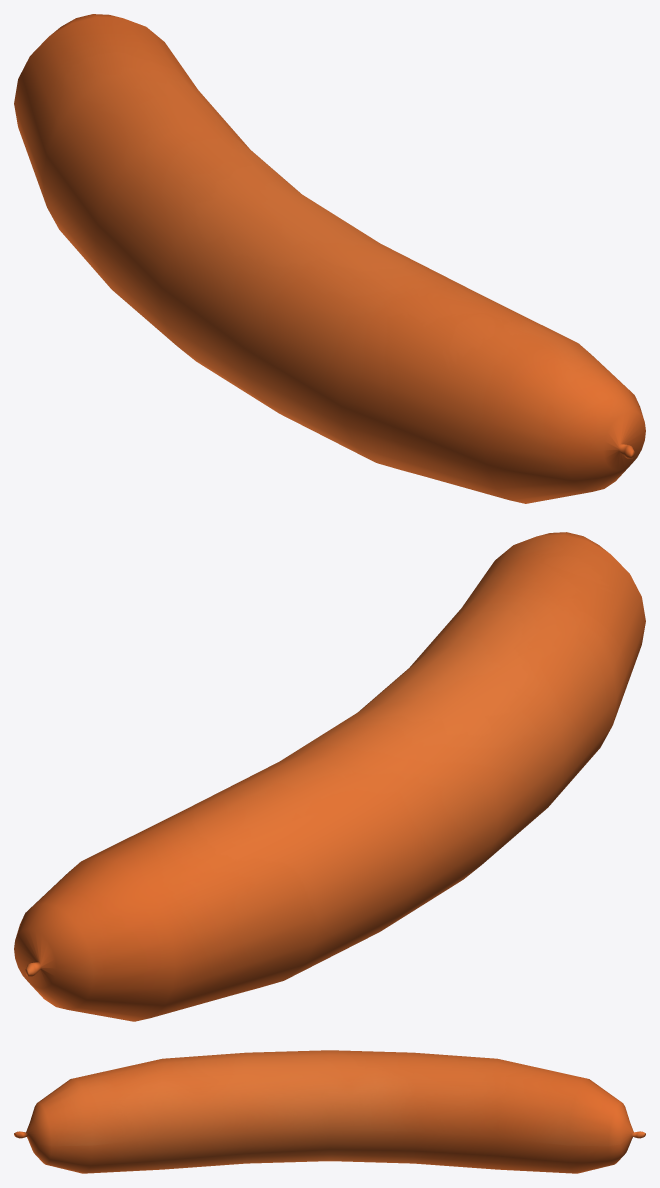
The picture shows the model from 3 angles, top to bottom: view 1: azimuth 30°, elevation 25°; view 2: azimuth 150°, elevation 25°; view 3: azimuth 270°, elevation 25°; orthographic projection. The views are drawn at different scales.
Visible parts, largest first — view 1: pCylinder1; view 2: pCylinder1; view 3: pCylinder1.
Part boxes in pixels (x1,y1,x2,y2): pCylinder1: [14, 14, 645, 503]; pCylinder1: [14, 532, 645, 1021]; pCylinder1: [14, 1050, 645, 1173].
Bounding box in the file's own units: 2.72 × 2 × 11.31.
1 material, 1 textured.
